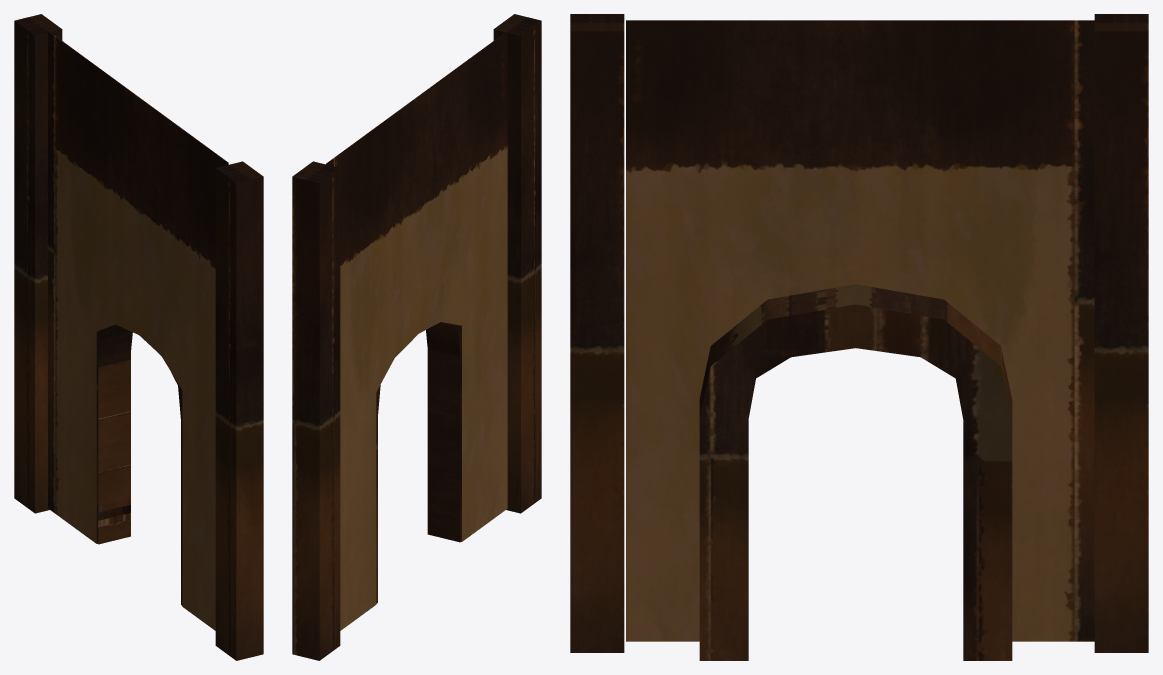
File: Arched_door.fbx
The picture shows the model from 3 angles, left to right: view 1: azimuth 30°, elevation 25°; view 2: azimuth 150°, elevation 25°; view 3: azimuth 270°, elevation 25°; orthographic projection. The views are drawn at different scales.
Visible parts, largest first — view 1: pasted__pCube62, pCube39, pCube42; view 2: pasted__pCube62, pCube39, pCube42; view 3: pasted__pCube62, pCube39, pCube42.
Part boxes in pixels (x1,y1,x2,y2): pasted__pCube62: (47, 31, 228, 630); pCube39: (14, 14, 263, 660); pCube42: (96, 324, 182, 605); pasted__pCube62: (326, 31, 507, 630); pCube39: (292, 14, 541, 660); pCube42: (376, 322, 461, 603); pasted__pCube62: (626, 20, 1095, 641); pCube39: (570, 14, 1148, 652); pCube42: (699, 284, 1012, 660).
Bounding box in the file's own units: 4.63 × 46.64 × 39.18.
